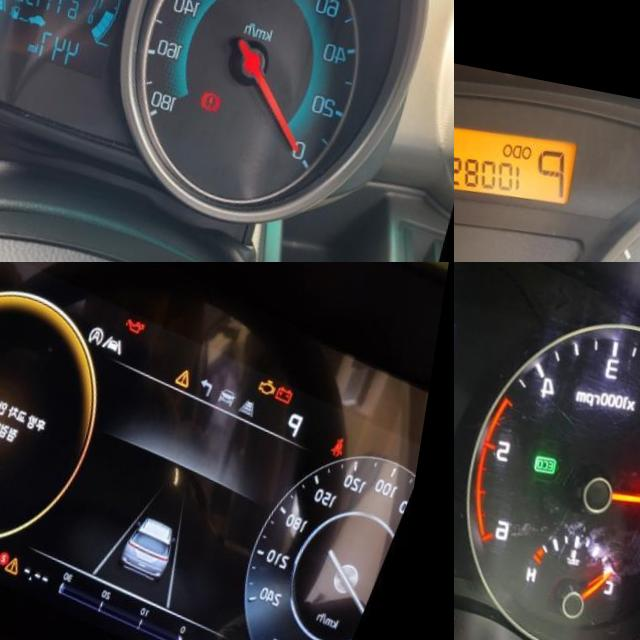Central Warning lamp: (185, 350, 206, 373), (21, 542, 41, 566)
LaneCenteringOff: (112, 320, 137, 341)
